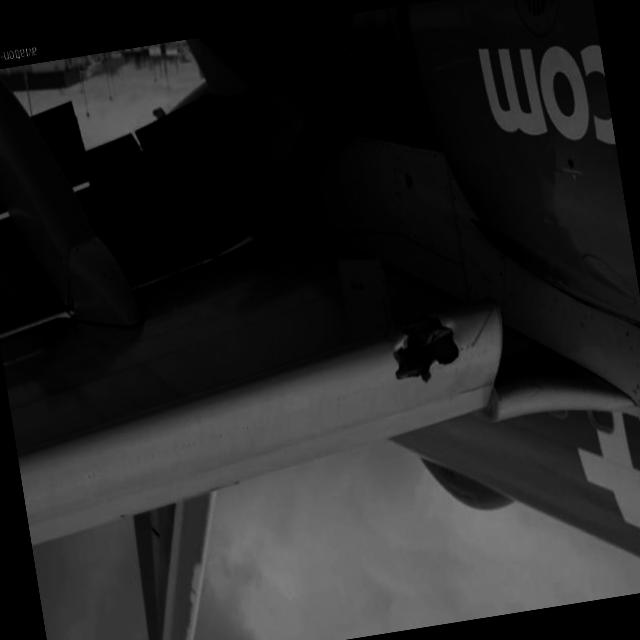crack: (384, 313, 461, 387)
